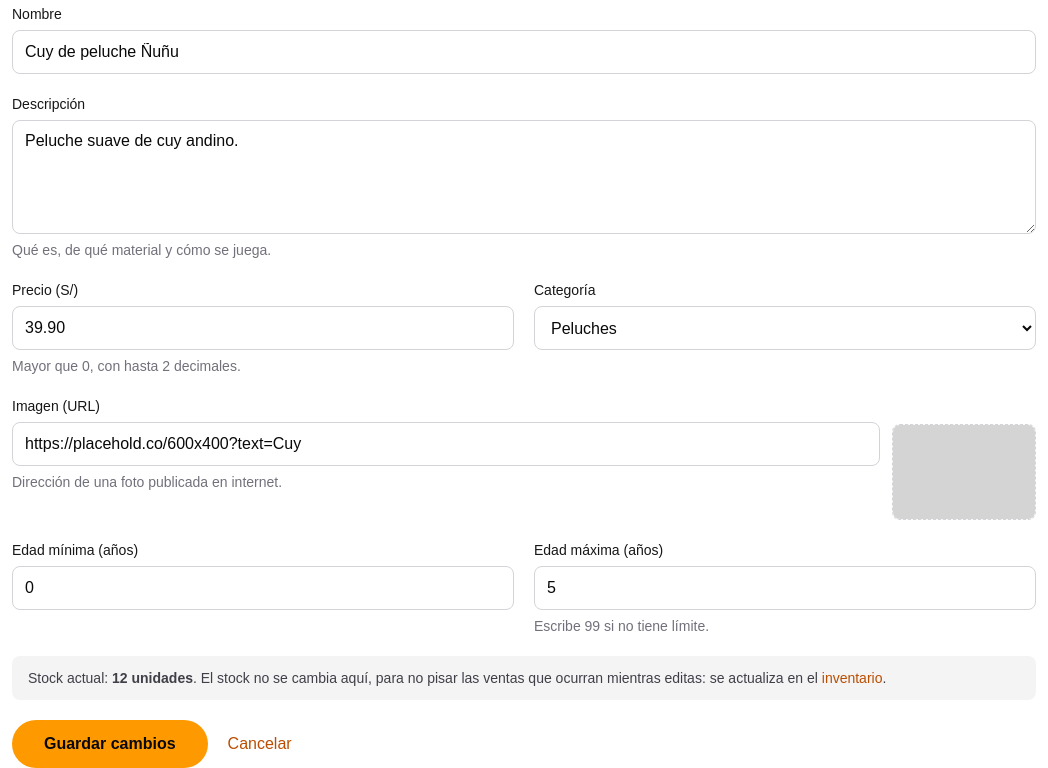
Scenario: FormularioJuguete (HU-12) › muestra junto al campo el error que devuelve la API (categoría que ya no existe)
(page scrolled)
Click the button "Guardar cambios" at (110,744), box [12,720,208,767]
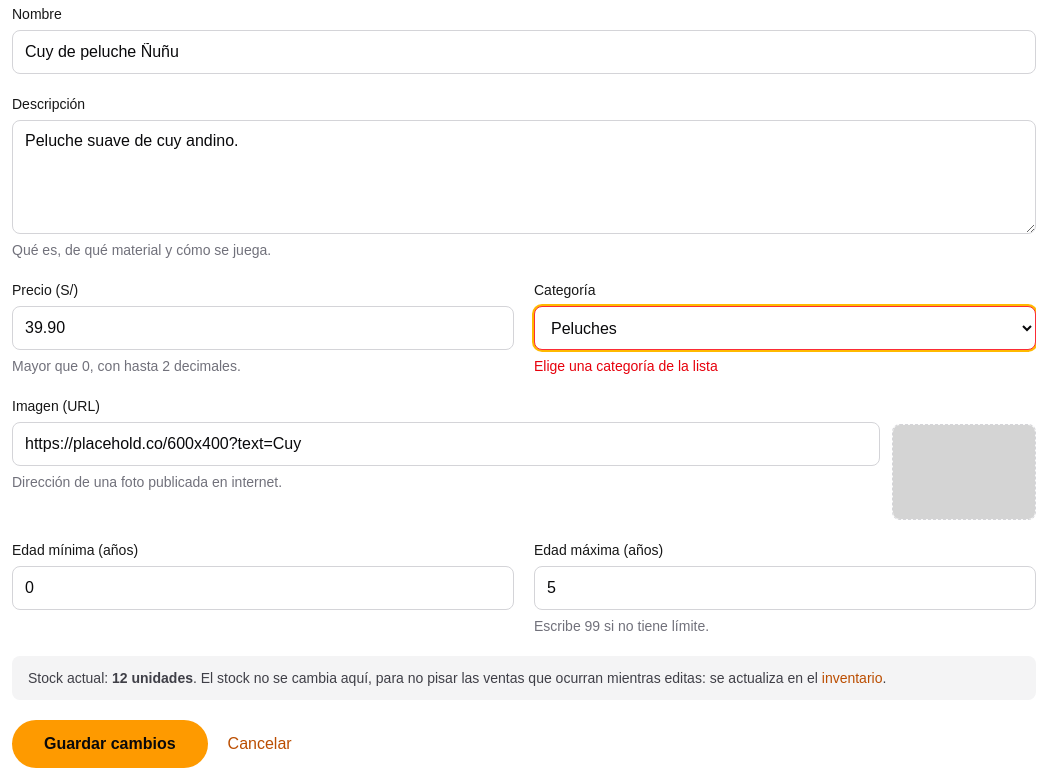
Result: the text "Elige una categoría de la lista" is shown at [534,358,718,374]
